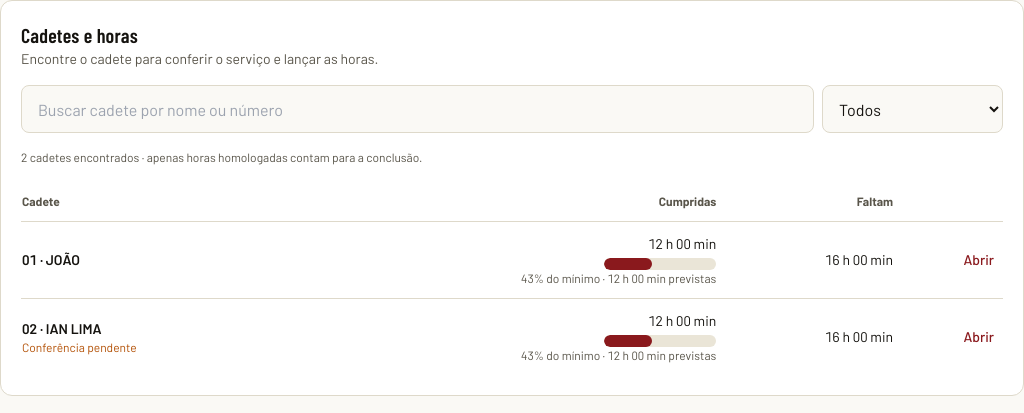
Scenario: busca simples dos cadetes › busca nome sem acento e número com zero à esquerda
Type "joao" into the search field at (418, 109), box [21,85,814,133]
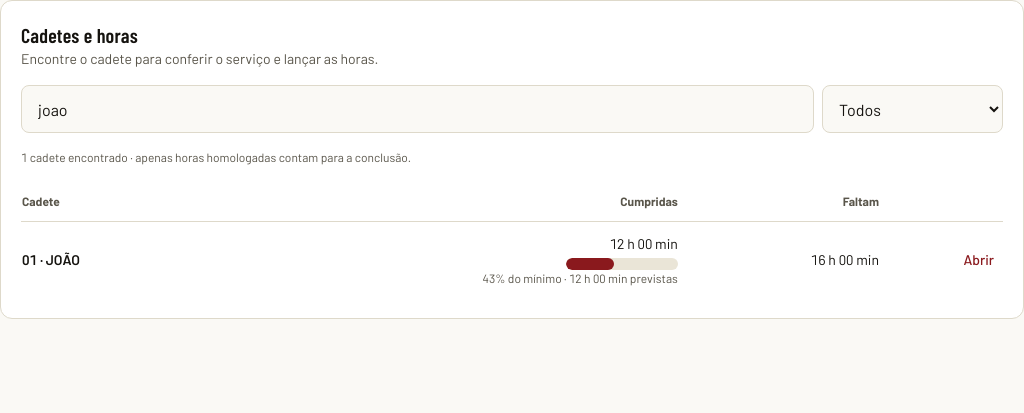
Check: the link "02 · IAN LIMA" is gone
Replace the text in the search field with "02" at (418, 109), box [21,85,814,133]
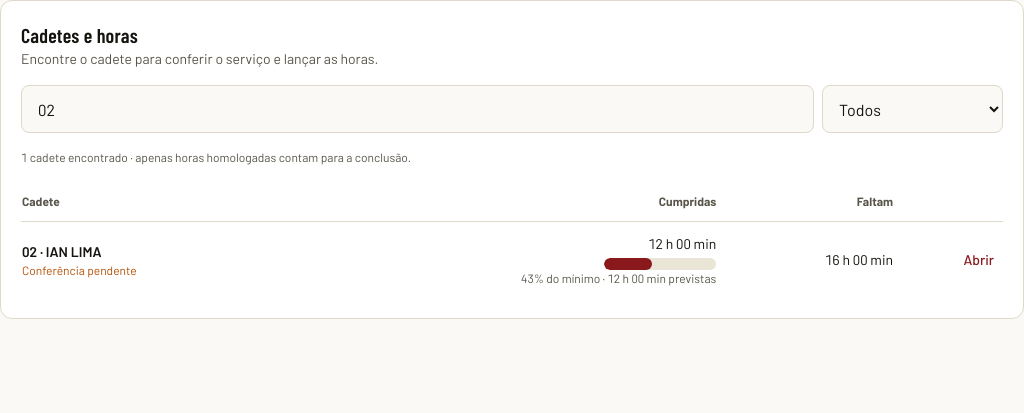
Check: the link "02 · IAN LIMA" is shown, box [22,243,102,260]
